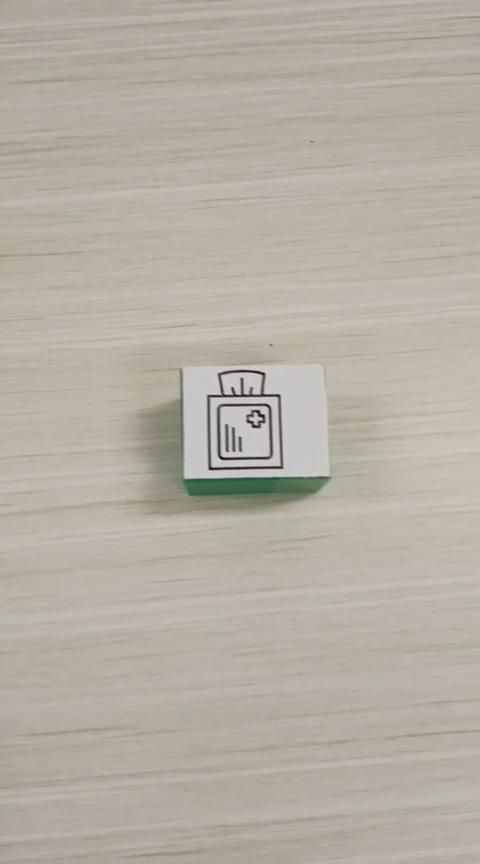Gauze: (179, 361, 331, 496)
